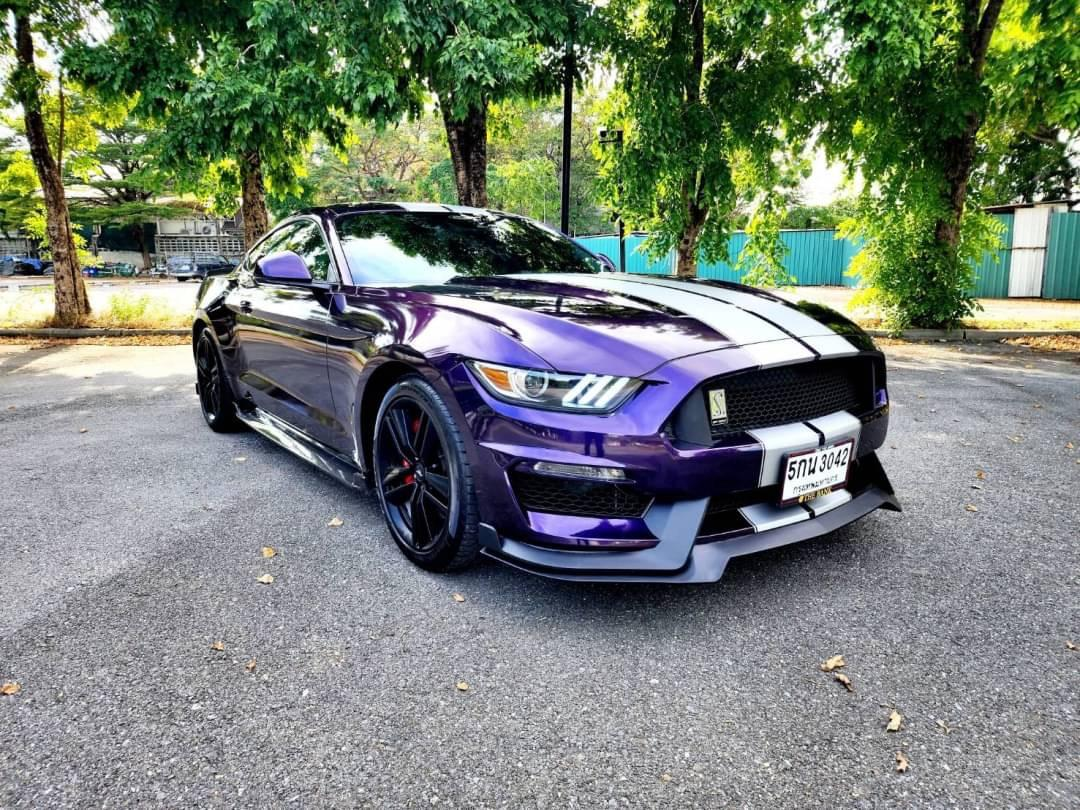license-plate: (779, 441, 863, 516)
